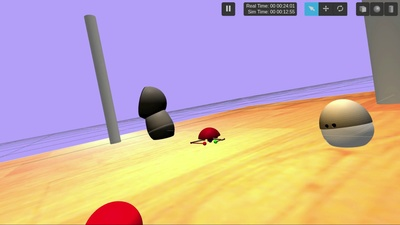mira_robot: (320, 99, 374, 148)
